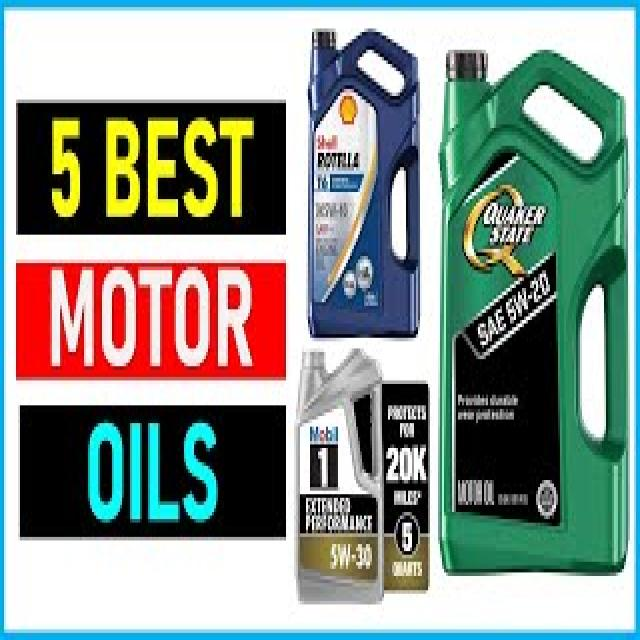motor_oil: (441, 41, 633, 580), (297, 21, 425, 346), (294, 350, 384, 610)
